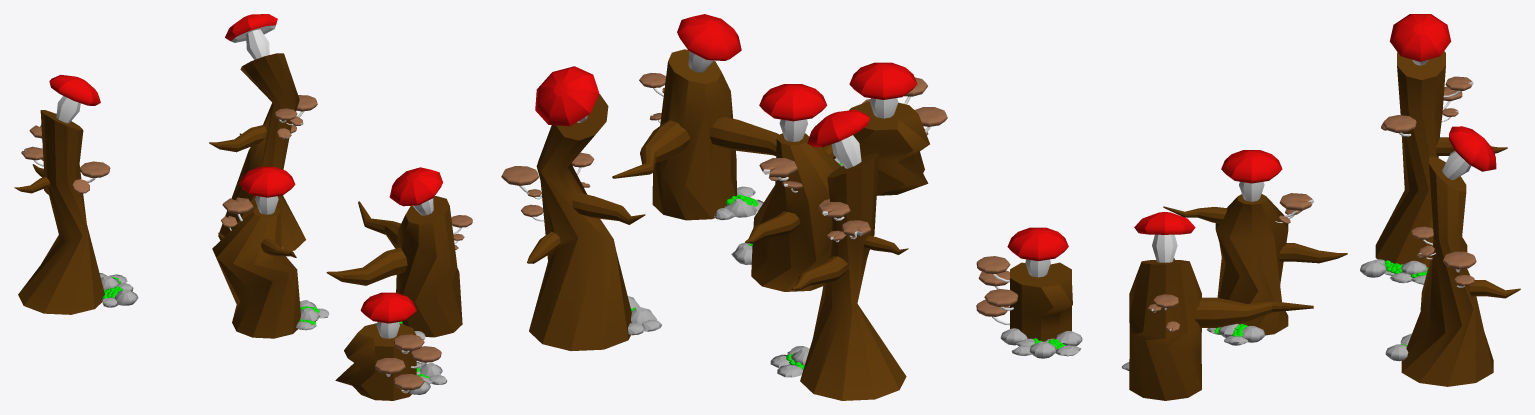
Rendered from Mushroom Puzzle.fbx.
The picture shows the model from 3 angles, left to right: view 1: azimuth 30°, elevation 25°; view 2: azimuth 150°, elevation 25°; view 3: azimuth 270°, elevation 25°; orthographic projection. The views are drawn at different scales.
Parts seen in each view (by area): view 1: Tree4, Tree2, Tree3, Tree5, Tree1, pCylinder6, Bouncy_Mushroom:pCylinder6, pCylinder10, pCylinder8, RockPile5, pCylinder12, RockPile1 (+9 smaller); view 2: Tree5, Tree4, Tree2, Tree3, Tree1, pCylinder12, pCylinder6, Bouncy_Mushroom:pCylinder6, pCylinder10, pCylinder8, RockPile2, RockPile5 (+9 smaller); view 3: Tree5, Tree2, Tree3, Tree4, Tree1, pCylinder8, Bouncy_Mushroom:pCylinder6, pCylinder10, RockPile1, pCylinder12, RockPile5, pCylinder6 (+8 smaller).
Part boxes in pixels (bbox=[...]): Tree4: bbox=[14, 110, 104, 314]; Tree2: bbox=[326, 196, 462, 337]; Tree3: bbox=[212, 207, 300, 338]; Tree5: bbox=[209, 53, 305, 250]; Tree1: bbox=[335, 323, 416, 400]; pCylinder6: bbox=[389, 167, 442, 206]; Bouncy_Mushroom:pCylinder6: bbox=[360, 292, 416, 323]; pCylinder10: bbox=[239, 166, 295, 197]; pCylinder8: bbox=[49, 75, 100, 105]; RockPile5: bbox=[99, 273, 138, 307]; pCylinder12: bbox=[225, 14, 277, 42]; RockPile1: bbox=[409, 362, 446, 394]; Tree5: bbox=[527, 94, 645, 351]; Tree4: bbox=[792, 153, 908, 400]; Tree2: bbox=[612, 49, 778, 220]; Tree3: bbox=[745, 133, 841, 291]; Tree1: bbox=[849, 101, 929, 195]; pCylinder12: bbox=[535, 66, 599, 126]; pCylinder6: bbox=[677, 14, 741, 60]; Bouncy_Mushroom:pCylinder6: bbox=[849, 62, 917, 99]; pCylinder10: bbox=[759, 84, 827, 121]; pCylinder8: bbox=[807, 109, 869, 147]; RockPile2: bbox=[714, 186, 763, 220]; RockPile5: bbox=[770, 346, 809, 377]; Tree5: bbox=[1401, 156, 1520, 386]; Tree2: bbox=[1129, 258, 1313, 400]; Tree3: bbox=[1163, 194, 1347, 335]; Tree4: bbox=[1375, 51, 1507, 267]; Tree1: bbox=[1010, 262, 1072, 341]; pCylinder8: bbox=[1389, 14, 1451, 61]; Bouncy_Mushroom:pCylinder6: bbox=[1007, 227, 1068, 261]; pCylinder10: bbox=[1221, 150, 1282, 183]; RockPile1: bbox=[1000, 328, 1082, 358]; pCylinder12: bbox=[1449, 126, 1496, 171]; RockPile5: bbox=[1360, 259, 1428, 284]; pCylinder6: bbox=[1134, 212, 1195, 234].
Bounding box in the file's own units: 52.21 × 32.28 × 66.61.
